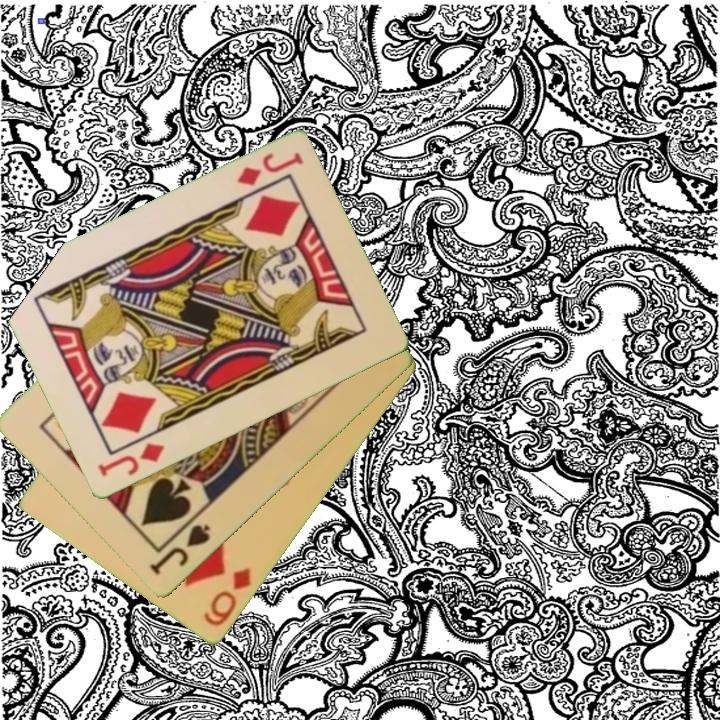6d: (200, 564, 255, 630)
Jd: (233, 149, 307, 190), (94, 439, 167, 480)
Js: (146, 521, 214, 579)
